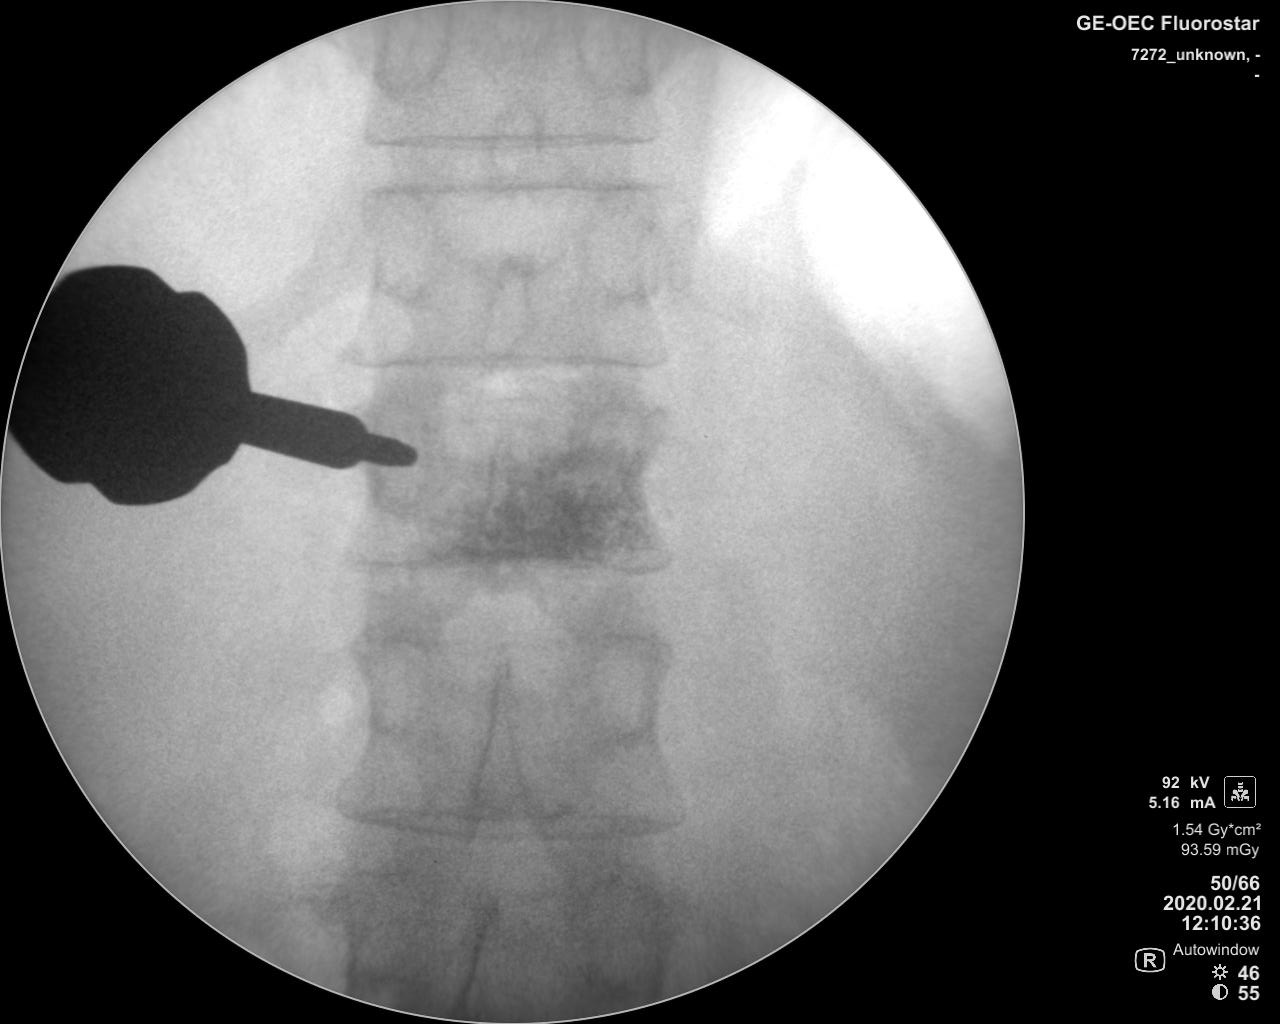eyes: (359, 192, 440, 303), (585, 636, 670, 740), (581, 197, 667, 299), (370, 411, 444, 511), (358, 636, 432, 736), (372, 13, 450, 104), (574, 15, 650, 99)
line: (326, 802, 696, 848), (347, 110, 670, 155), (324, 545, 691, 584), (326, 339, 680, 376), (343, 178, 678, 206)
nose: (469, 643, 532, 839), (472, 417, 525, 591), (474, 245, 537, 365), (488, 73, 544, 195)
